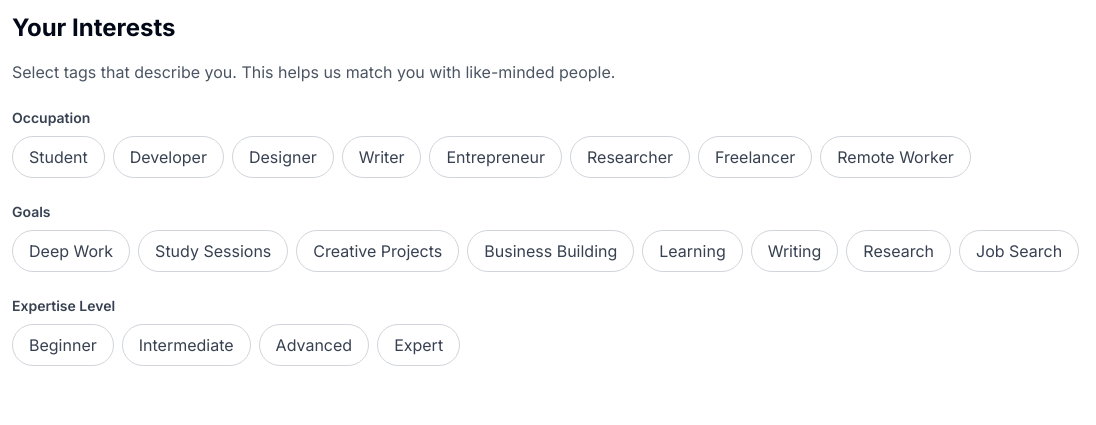
Test case: Onboarding Step Components › StepInterests › should show selected count
The image size is (1096, 425).
Click the button "Developer": (168, 157) [113,136,224,178]
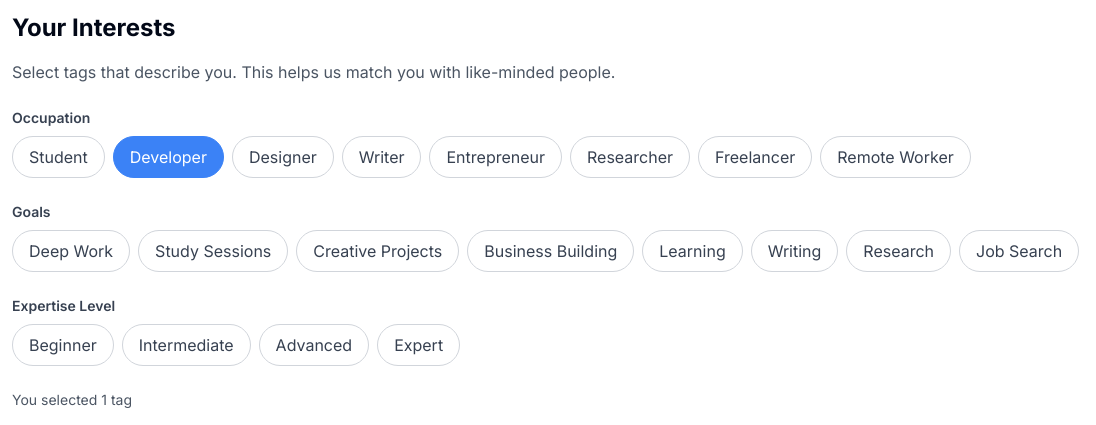
Click the button "Writer": (382, 157) [342,136,422,178]
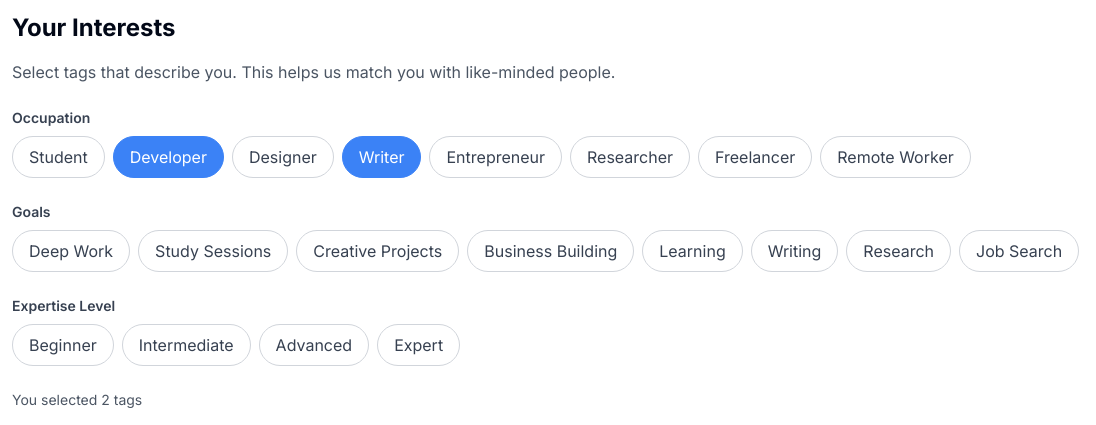
Now the text "You selected 2 tags" is shown, box [12,391,142,408]
